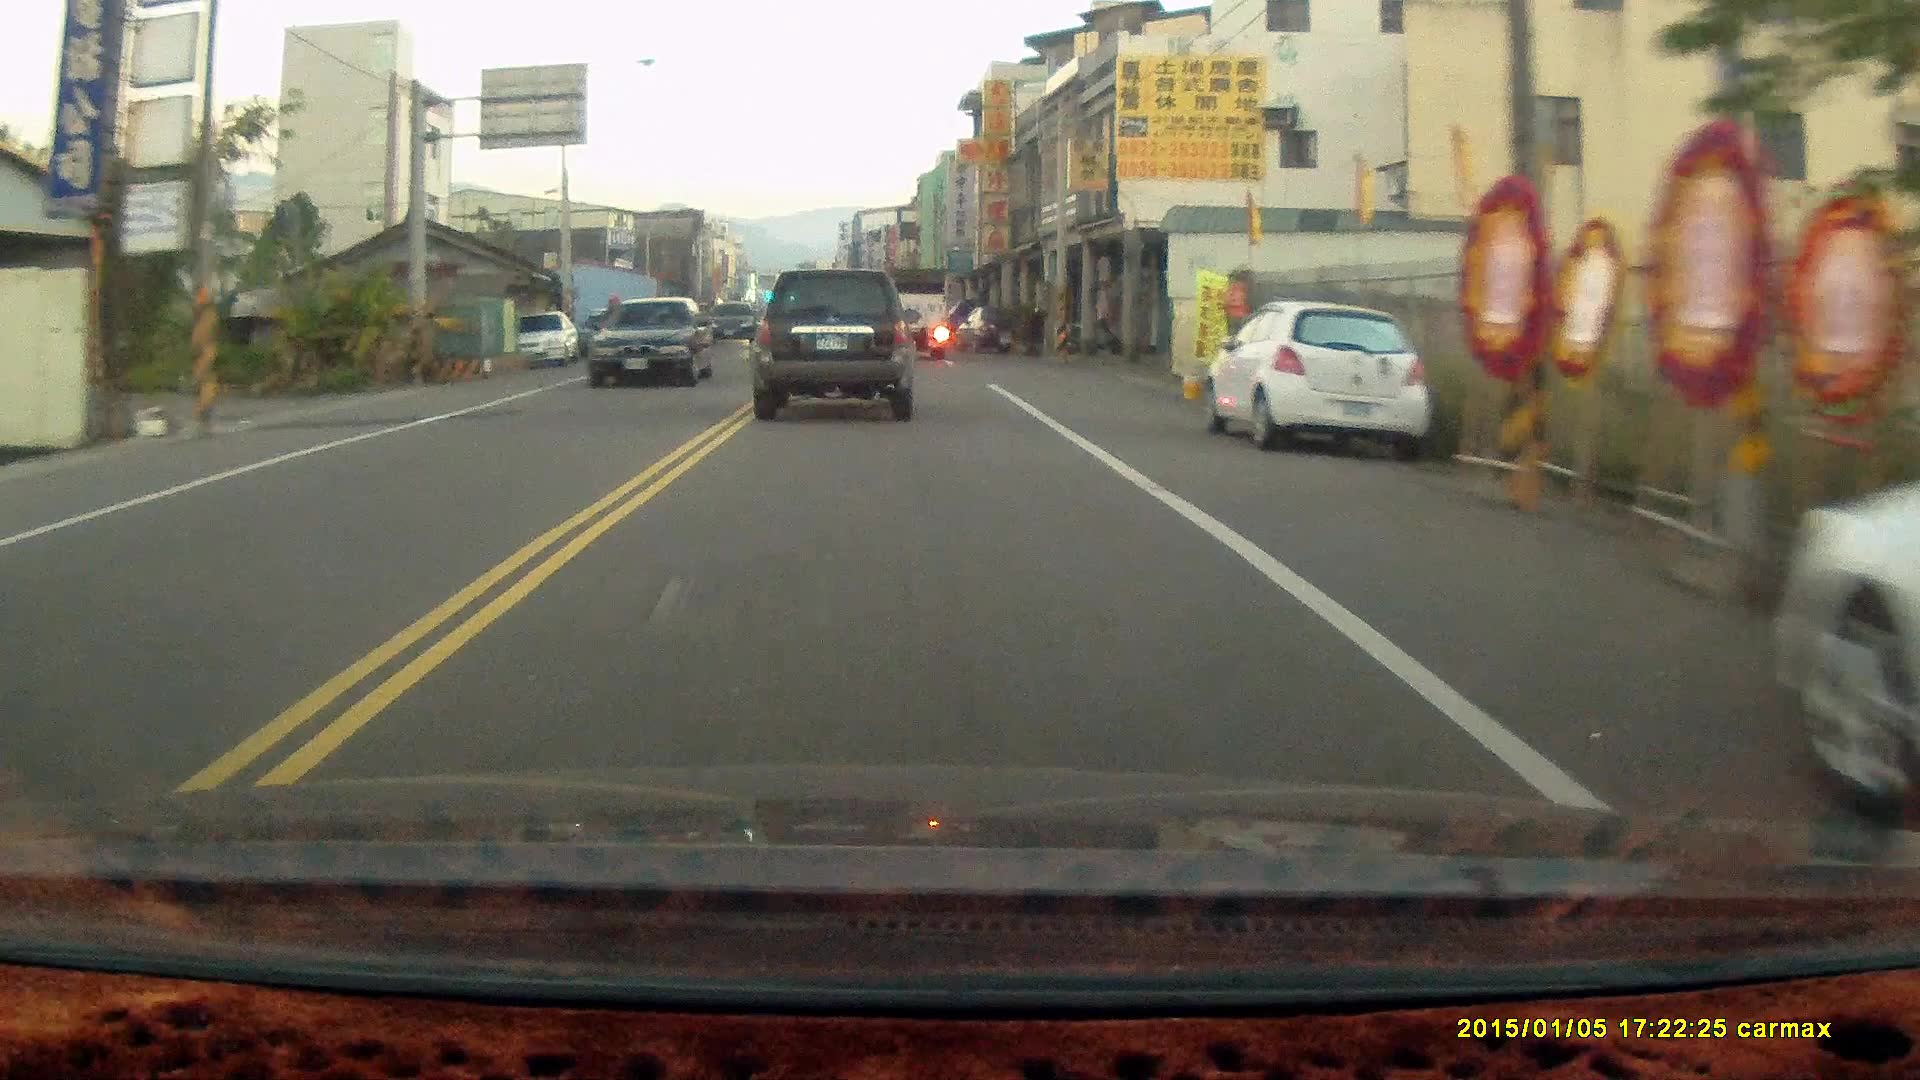vehicle: (1209, 299, 1429, 464), (746, 269, 918, 425), (589, 293, 723, 389), (878, 262, 953, 359), (498, 310, 582, 367)
